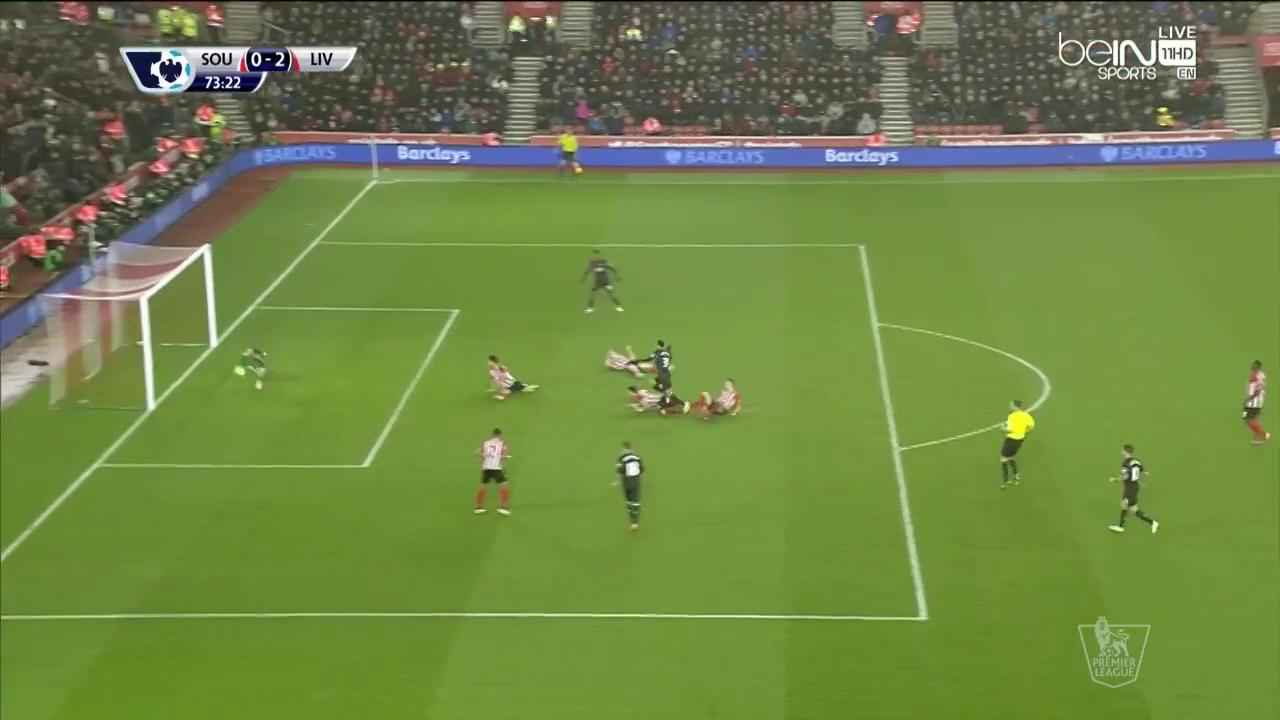football: (233, 364, 246, 376)
